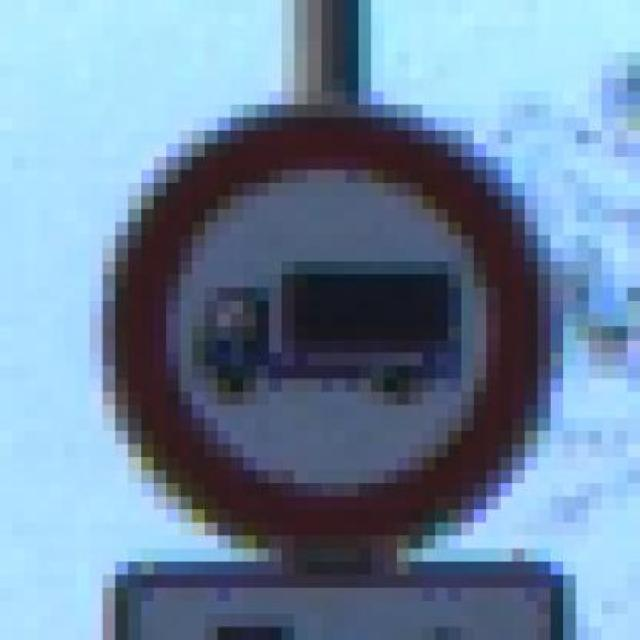Truck traffic is prohibited: (89, 90, 563, 562)
